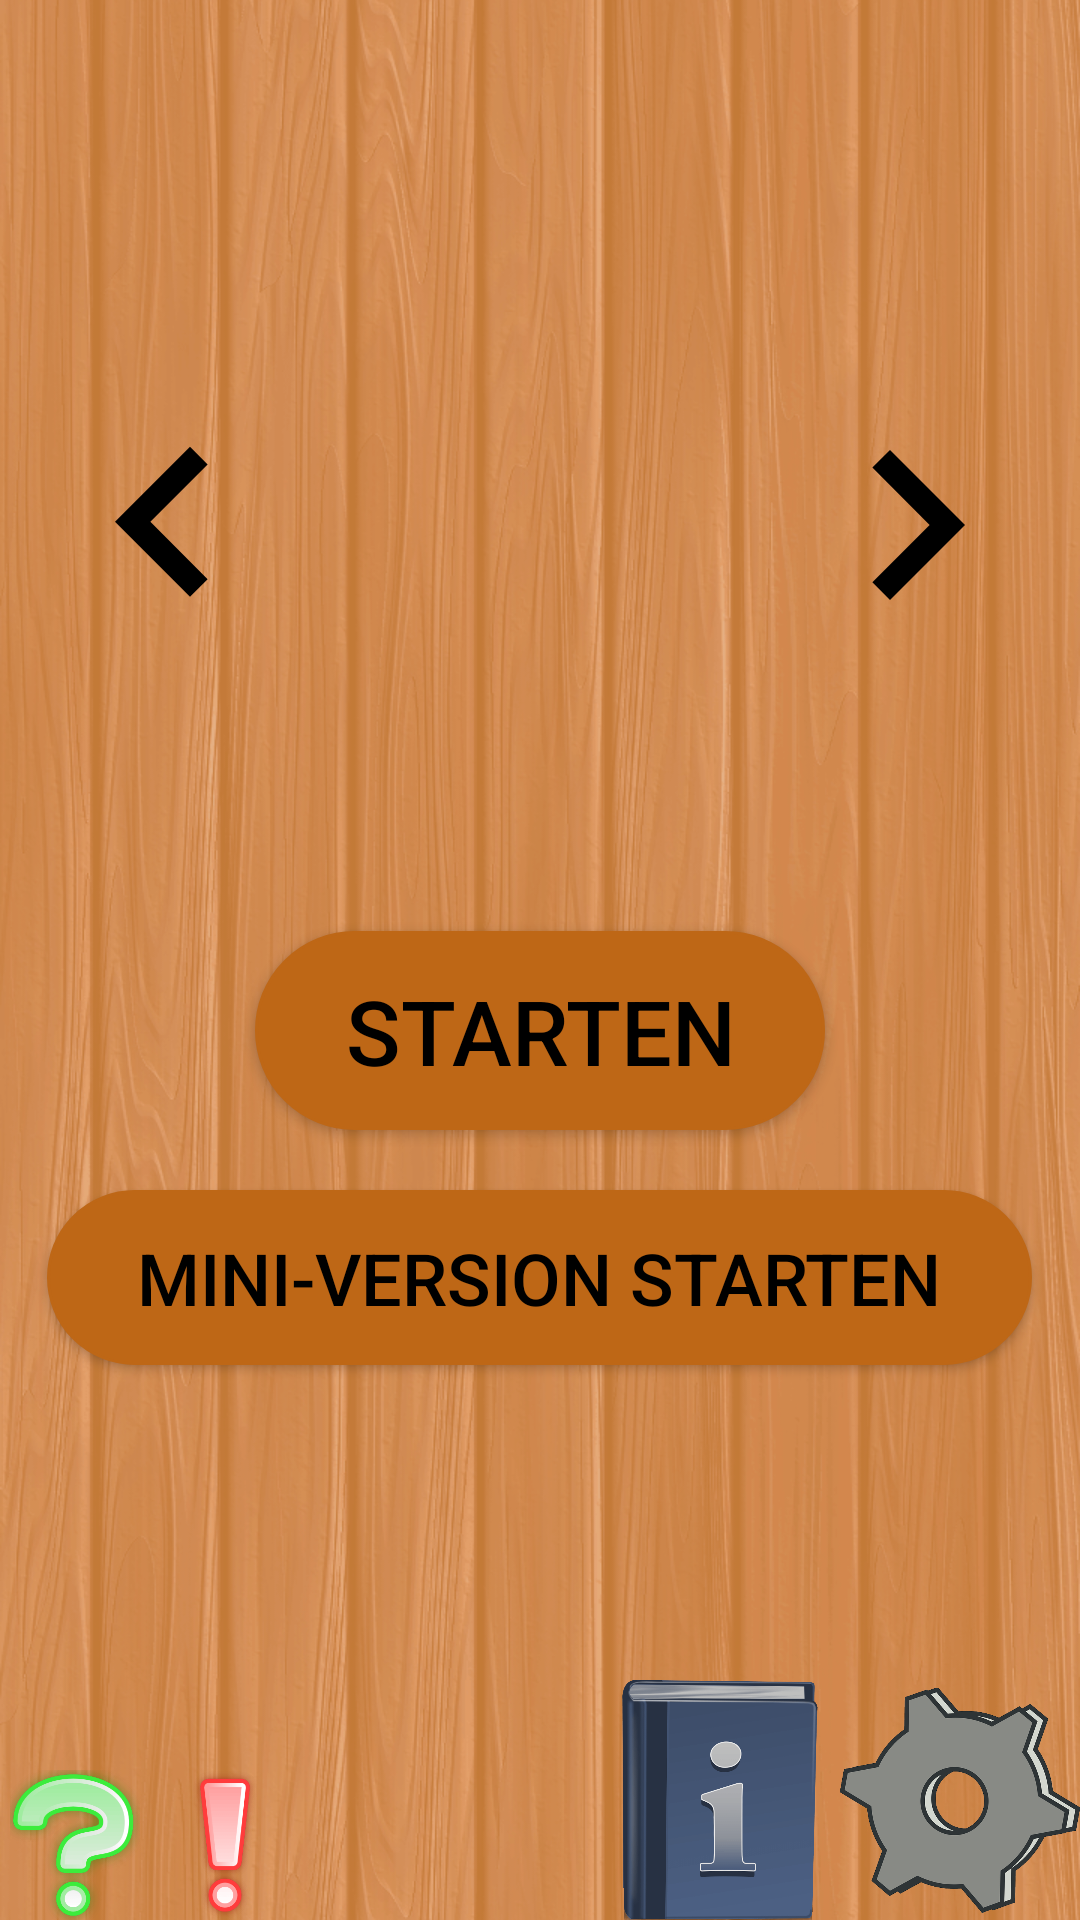

Icons on this 1080×1920 Android screen, each with its box as box=[x1, y1, x2, y2]:
ausrufezeichen: box=[192, 1770, 250, 1920]
fragezeichen: box=[10, 1770, 138, 1920]
info: box=[600, 1680, 818, 1920]
keyboard arrow left: box=[115, 378, 240, 674]
settings: box=[840, 1680, 1080, 1920]
